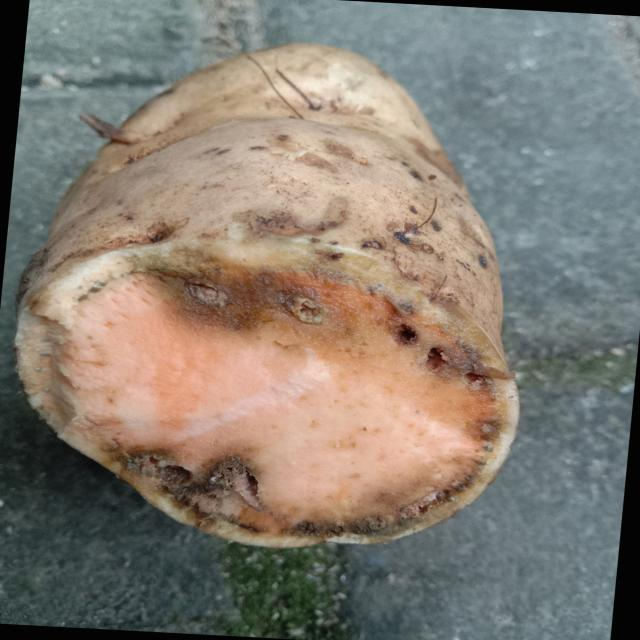Sick Sweet Potato_Tuber Rot: (15, 239, 518, 548)
